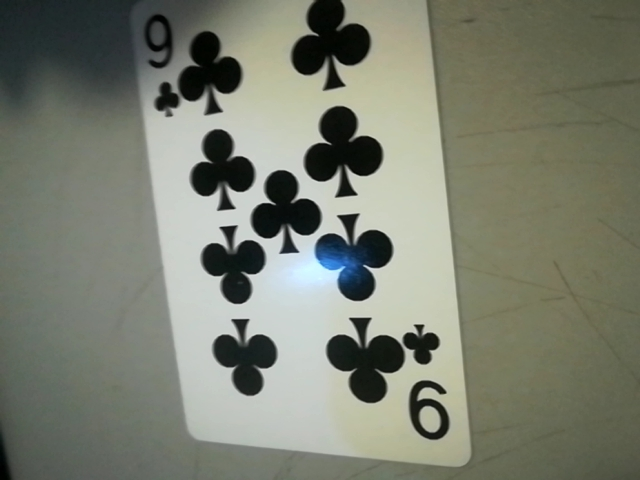mh 9: (396, 316, 463, 448)
